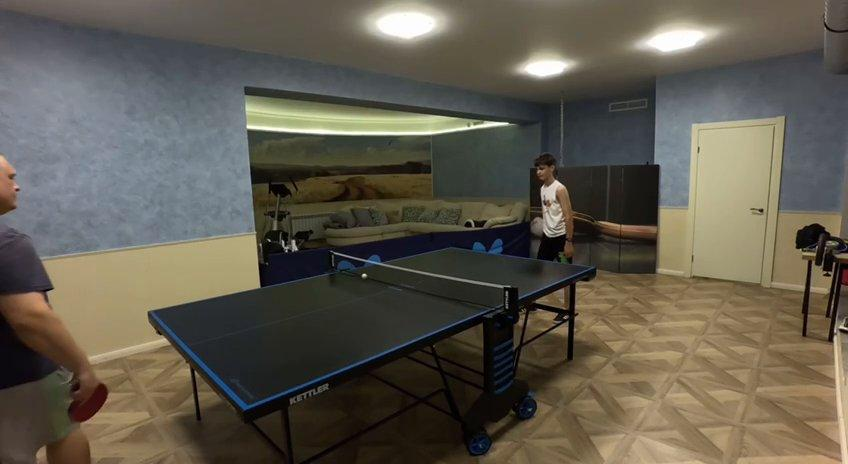Ball: (361, 272, 367, 279)
Net: (329, 251, 515, 308)
Player1: (527, 149, 581, 260)
Player2: (0, 223, 97, 463), (0, 154, 19, 215)
Table: (149, 248, 594, 408)
